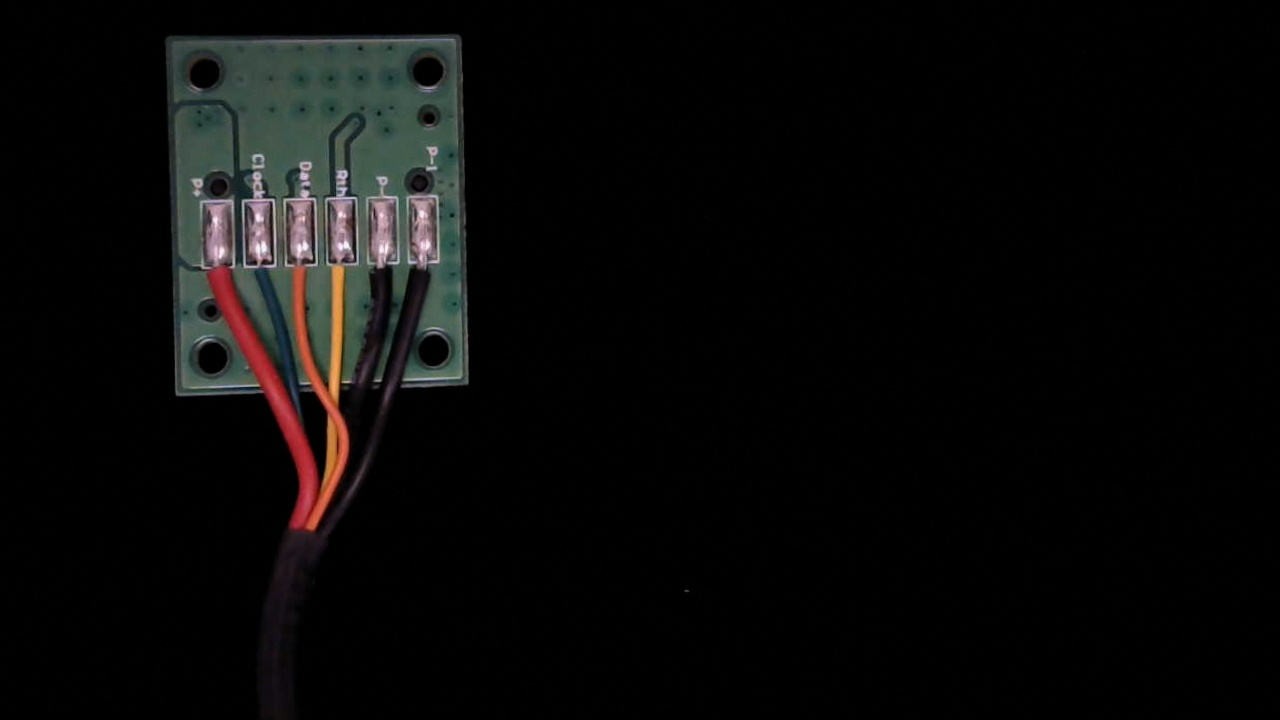Black: (365, 246, 400, 313)
Black1: (406, 245, 440, 316)
Green: (242, 248, 277, 310)
Orange: (284, 250, 318, 316)
Red: (200, 252, 237, 326)
Yellow: (323, 247, 356, 315)
